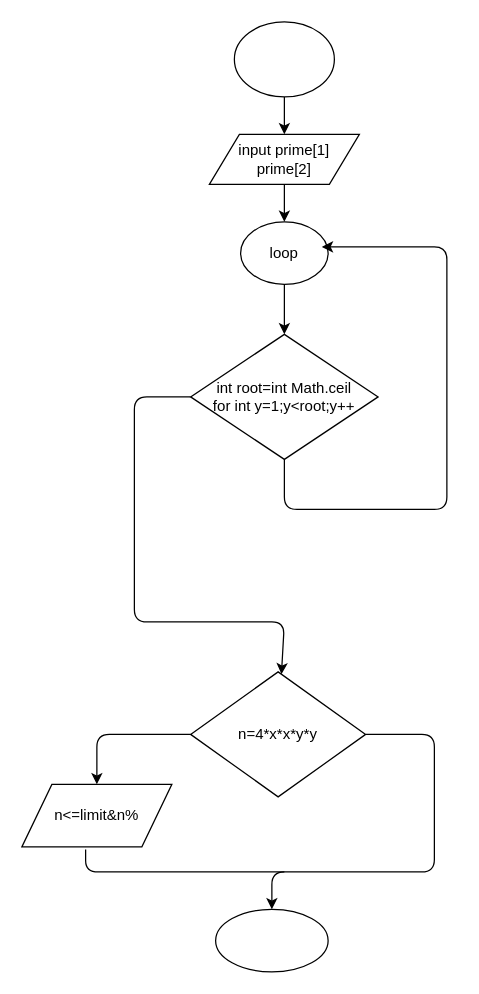
This 479x994 diagram has some shape labels left out. Here are the shapes that lost their labels. From the top down, the box of each, then its label:
(233, 21, 334, 97): START
(214, 908, 328, 972): END
